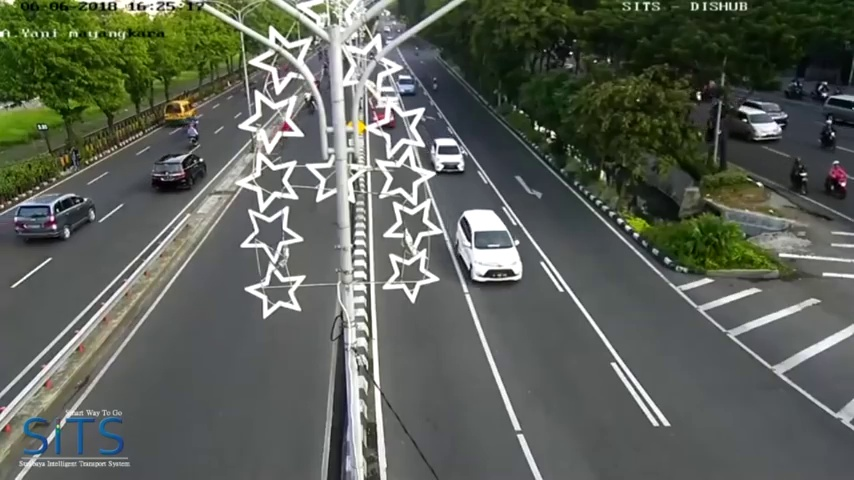car: (451, 207, 524, 290), (13, 193, 100, 238), (716, 101, 781, 145), (154, 154, 207, 193), (742, 95, 788, 129), (430, 134, 466, 173), (821, 93, 854, 127), (164, 99, 195, 124), (398, 73, 416, 98)
motorbike: (790, 157, 811, 198), (827, 160, 848, 198), (819, 116, 837, 153), (187, 123, 198, 148)
